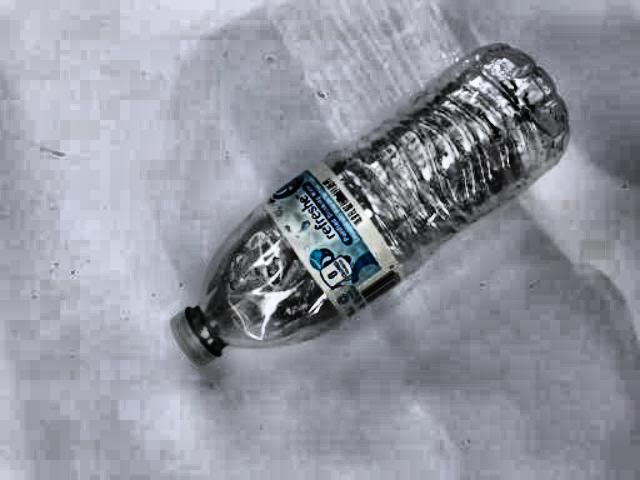Bottles: (146, 38, 602, 380)
